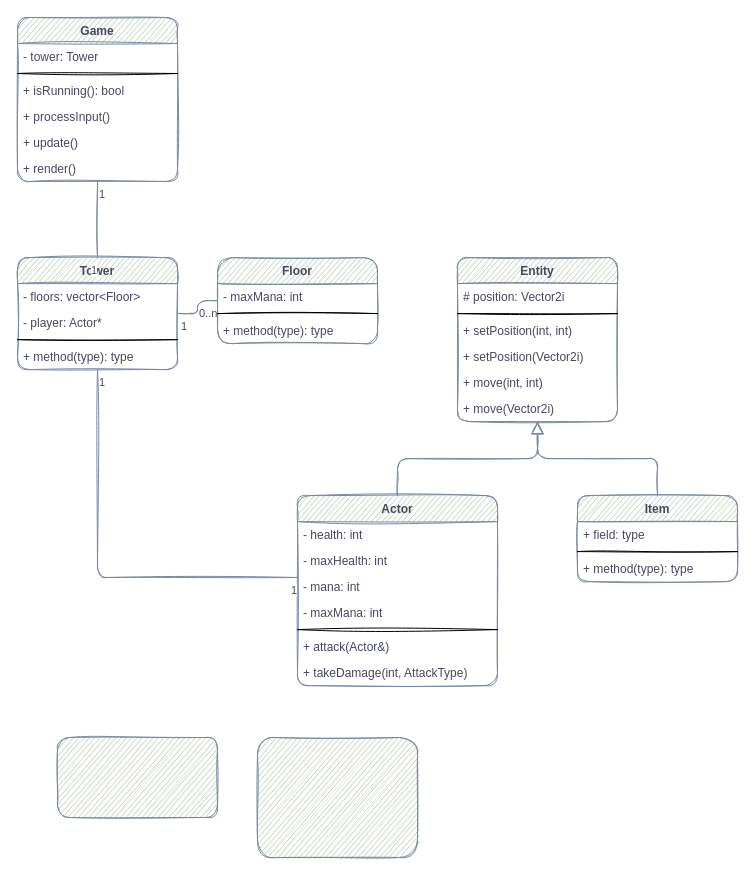
The diagram is 755 pixels wide and 875 high, and some of its shapes have lost their labels. The shapes that lost their labels are listed below. From the top down, each one's centre as x and y in pixels, then its label:
At [137,777]: "<<Enumeration>> ActorType Player Enemy".
At [337,797]: "<<Enumeration>> AttackType Melee Ranged".
